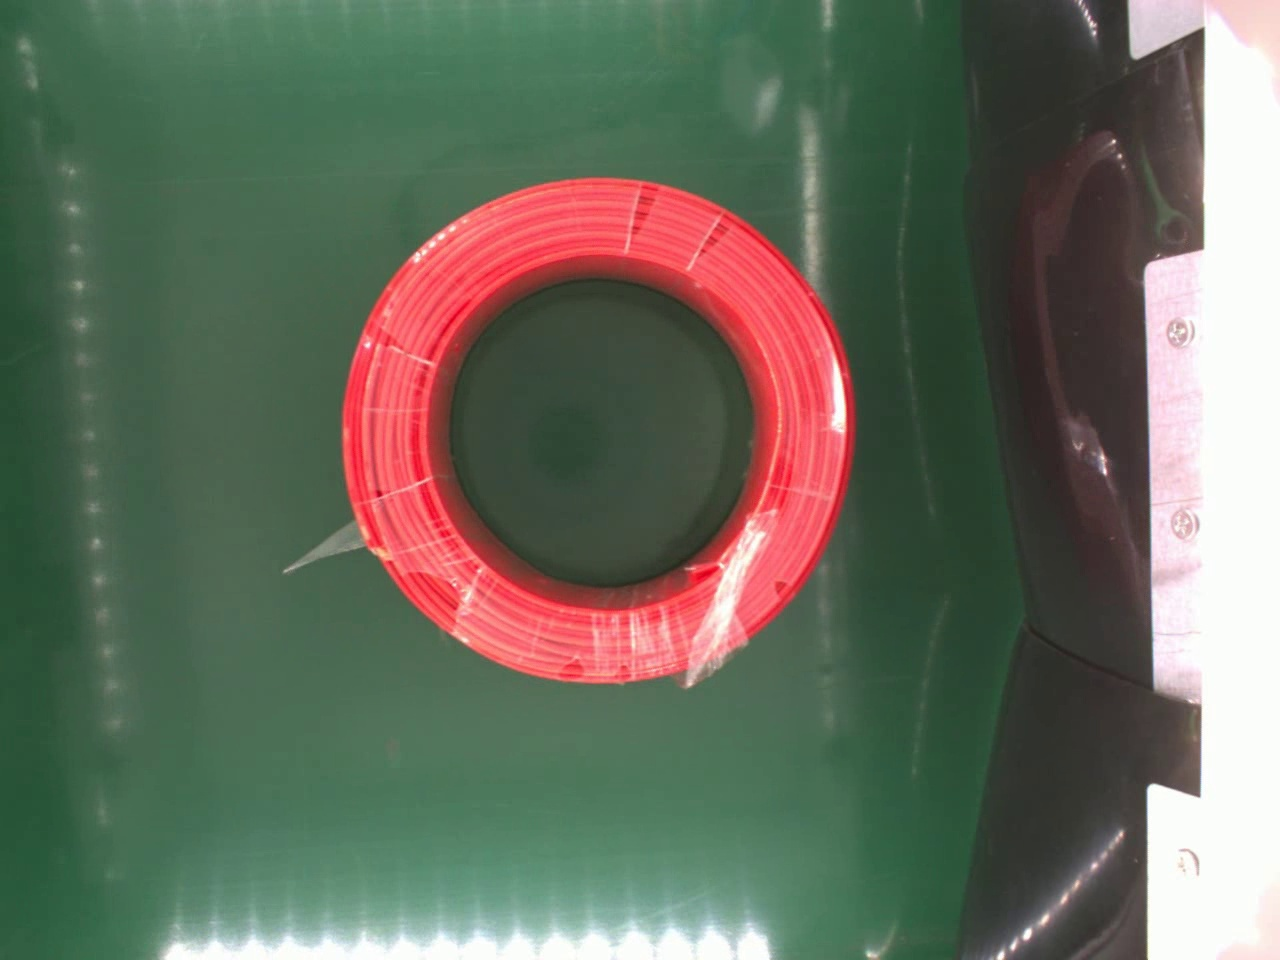red: (340, 176, 856, 690)
